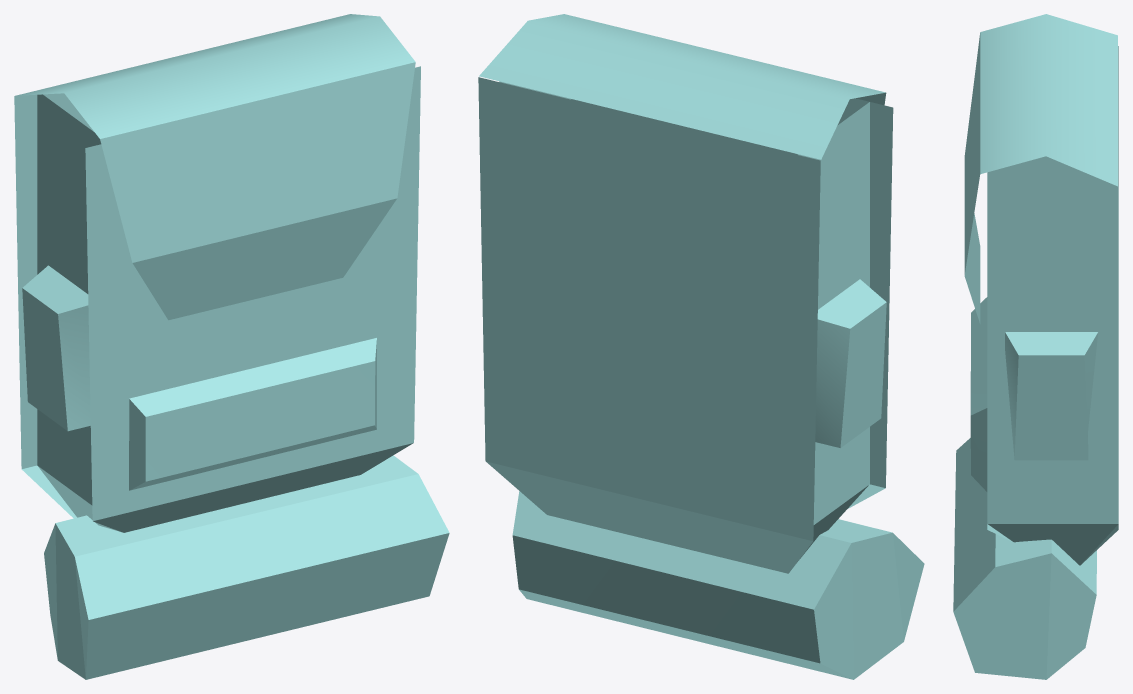
The model's file is backpack_mid_type.obj.
3 views of the same model, side by side, from view 1: azimuth 30°, elevation 25°; view 2: azimuth 150°, elevation 25°; view 3: azimuth 270°, elevation 25° (orthographic). The views are drawn at different scales.
Visible parts, largest first — view 1: Box01; view 2: Box01; view 3: Box01.
Part boxes in pixels (x1,y1,x2,y2): Box01: (14, 14, 449, 679); Box01: (478, 14, 924, 679); Box01: (953, 14, 1118, 679).
Size of the model in its own units: 40.77 by 60.82 by 17.41.
